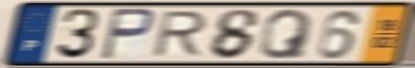3: (55, 8, 102, 62)
6: (315, 8, 364, 61)
8: (210, 8, 261, 61)
P: (97, 7, 157, 62)
Q: (257, 8, 316, 61)
R: (148, 9, 212, 59)
